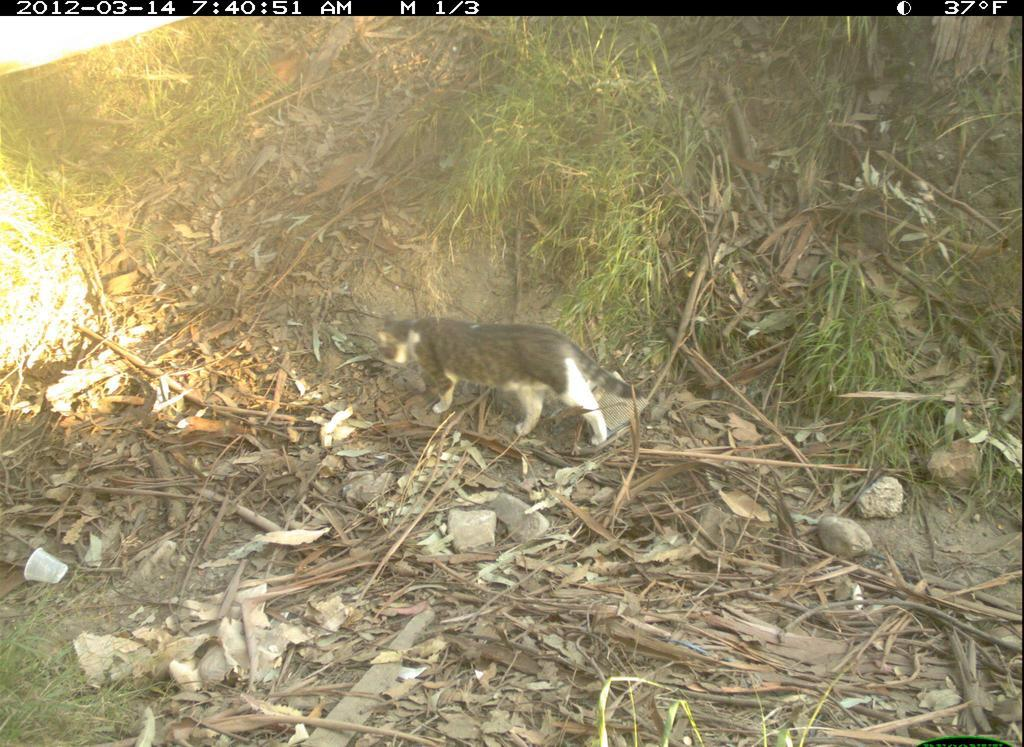cat: (367, 305, 647, 452)
